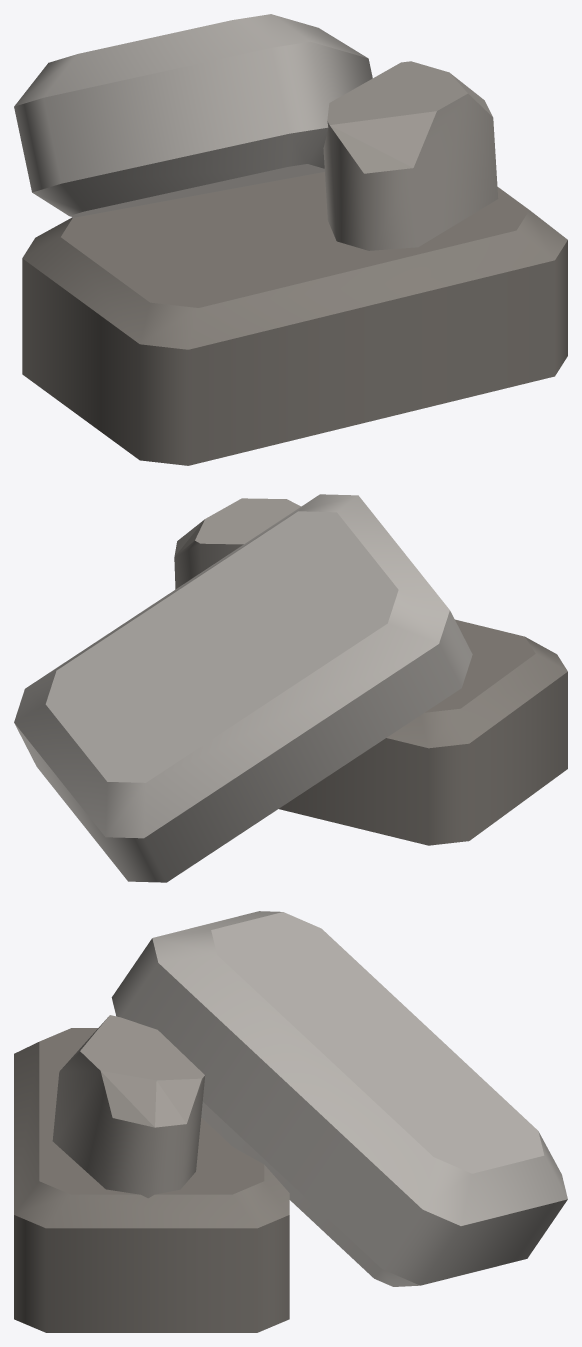
The model's file is Stone Fence 02.FBX.
3 renders of one model, top to bottom at view 1: azimuth 30°, elevation 25°; view 2: azimuth 150°, elevation 25°; view 3: azimuth 270°, elevation 25°, orthographic. The views are drawn at different scales.
Visible parts, largest first — view 1: Stone Fence 02; view 2: Stone Fence 02; view 3: Stone Fence 02.
Part boxes in pixels (<box>): Stone Fence 02: <box>14,14,567,465</box>; Stone Fence 02: <box>14,494,567,882</box>; Stone Fence 02: <box>14,911,567,1332</box>.
Bounding box in the file's own units: 96.61 × 71.16 × 118.
Materials: 1 (1 with a texture image).
